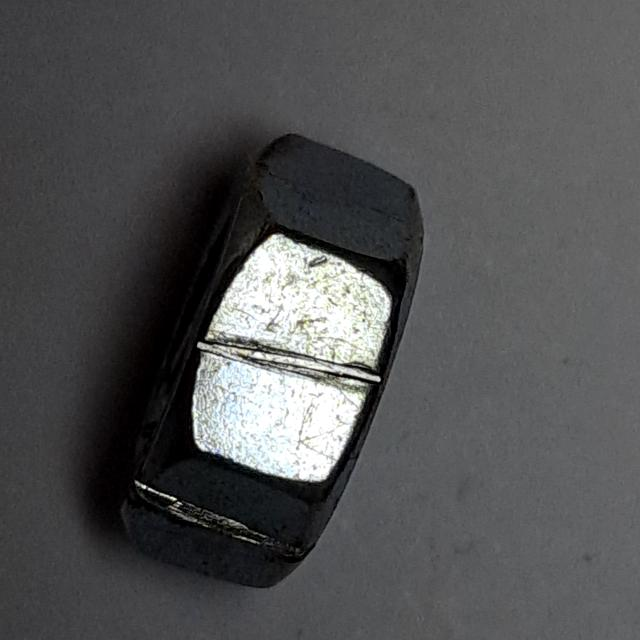Side_Scratches: (100, 115, 436, 601)
